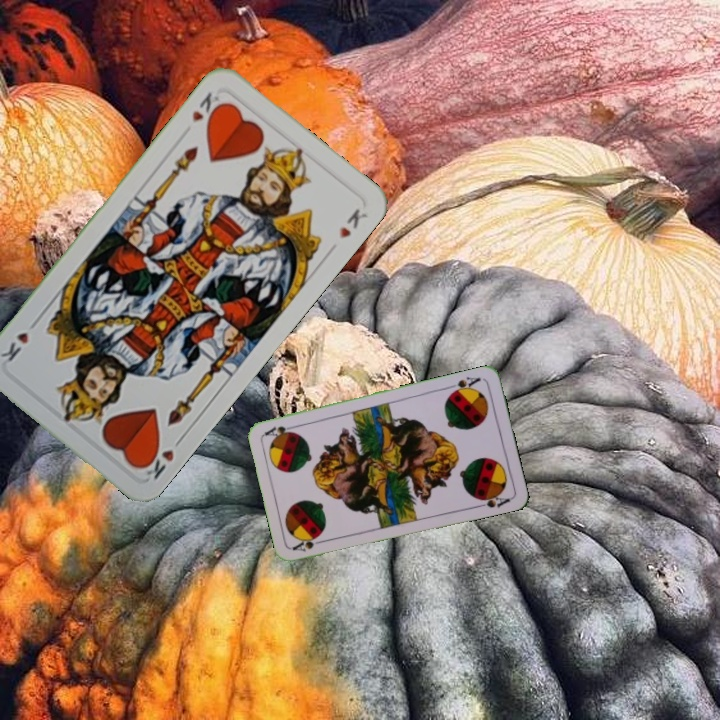HK: (136, 432, 187, 482), (188, 88, 226, 128)
SA: (444, 373, 483, 397), (289, 532, 329, 554)
